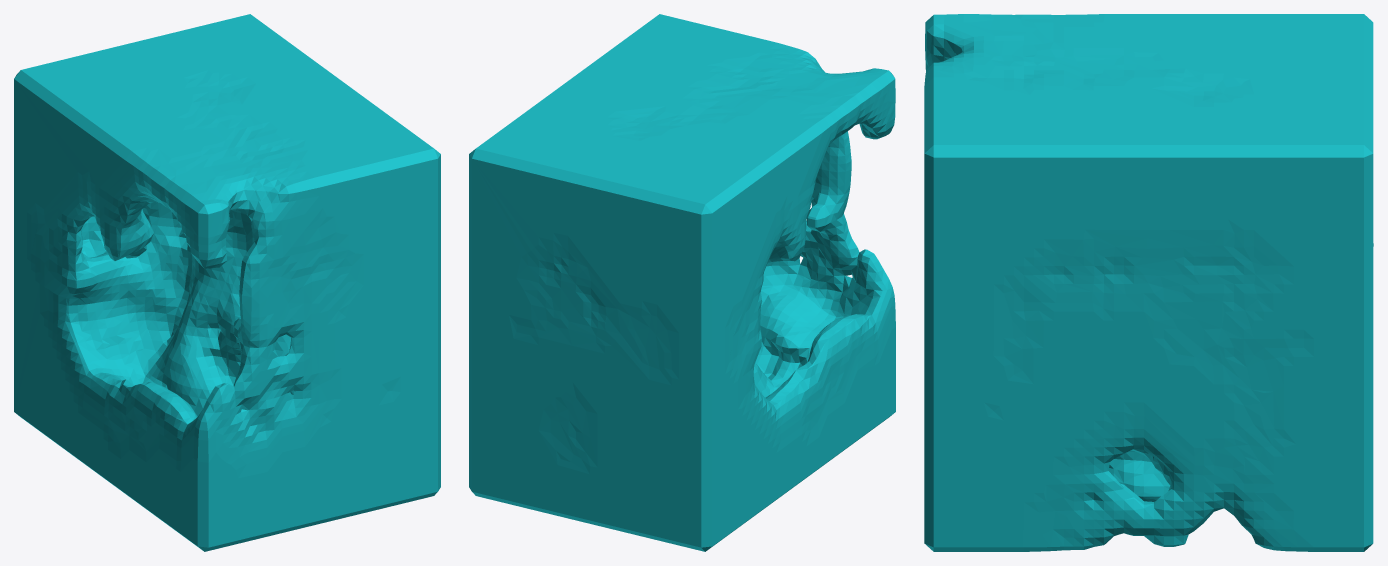
3 views of the same model, side by side, from view 1: azimuth 30°, elevation 25°; view 2: azimuth 150°, elevation 25°; view 3: azimuth 270°, elevation 25° (orthographic). The views are drawn at different scales.
Visible parts, largest first — view 1: Liquid_Domain; view 2: Liquid_Domain; view 3: Liquid_Domain.
Boxes of the visible parts, bbox=[...] form: Liquid_Domain: bbox=[14, 14, 440, 551]; Liquid_Domain: bbox=[469, 14, 895, 551]; Liquid_Domain: bbox=[924, 14, 1373, 551].
Size of the model in its own units: 79.09 by 108 by 108.
